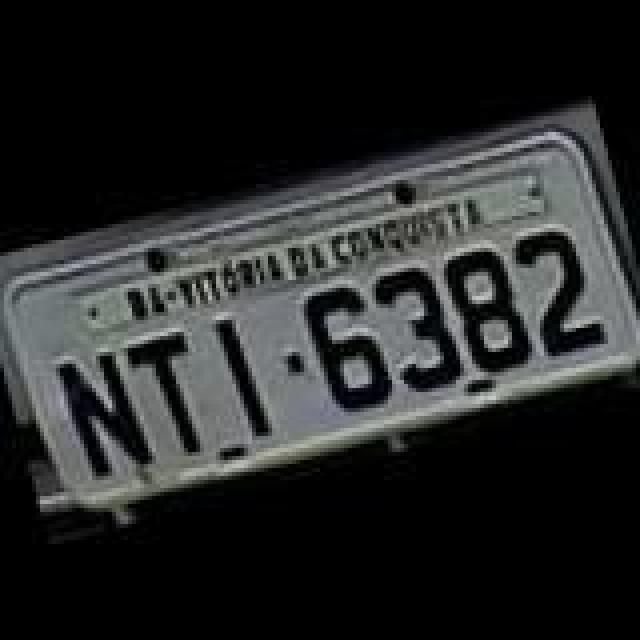1: (206, 306, 290, 446)
2: (504, 214, 616, 362)
3: (360, 250, 472, 406)
6: (290, 272, 398, 416)
8: (434, 230, 542, 378)
N: (50, 336, 158, 488)
T: (114, 328, 222, 472)
